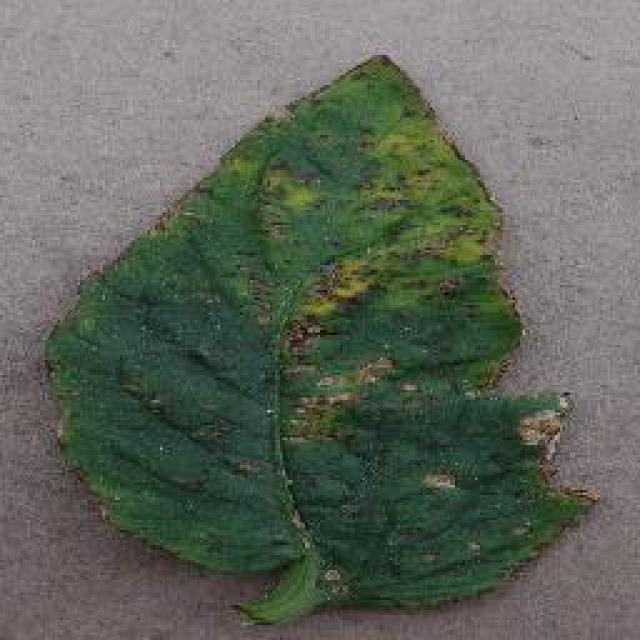Tom_Bacterial_spot: (220, 66, 510, 325), (284, 336, 590, 512)
